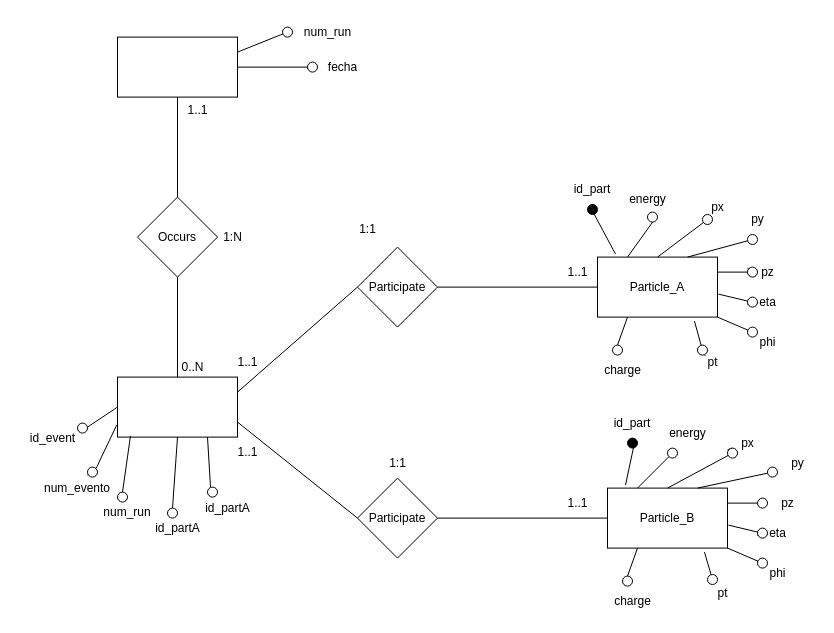
The diagram is 834 pixels wide and 633 high, and some of its shapes have lost their labels. Here are the shapes that lost their labels. From the top down, the centre of each, then its label:
point 177,66: Run
point 177,406: Event
